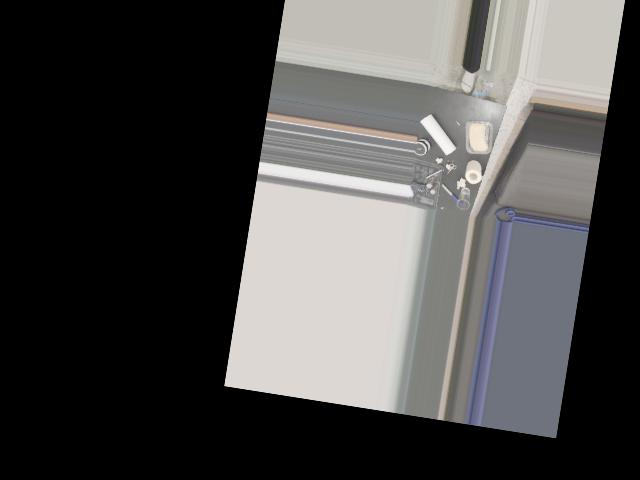cheese: (460, 114, 497, 157)
